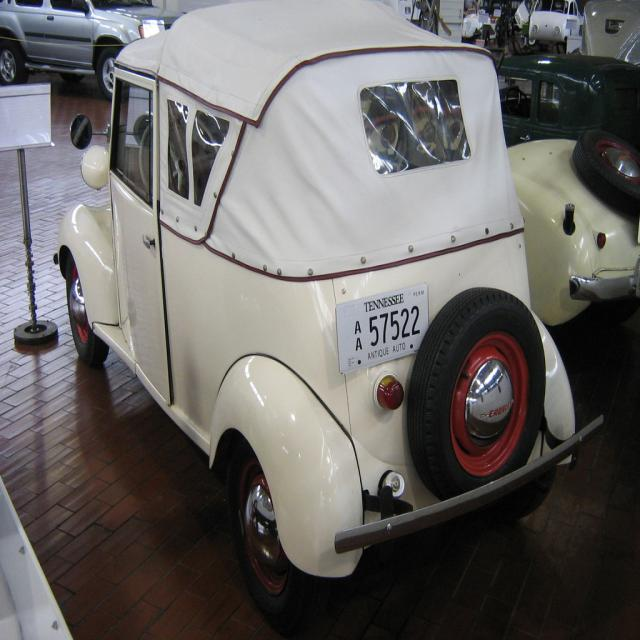car: (47, 0, 612, 628)
